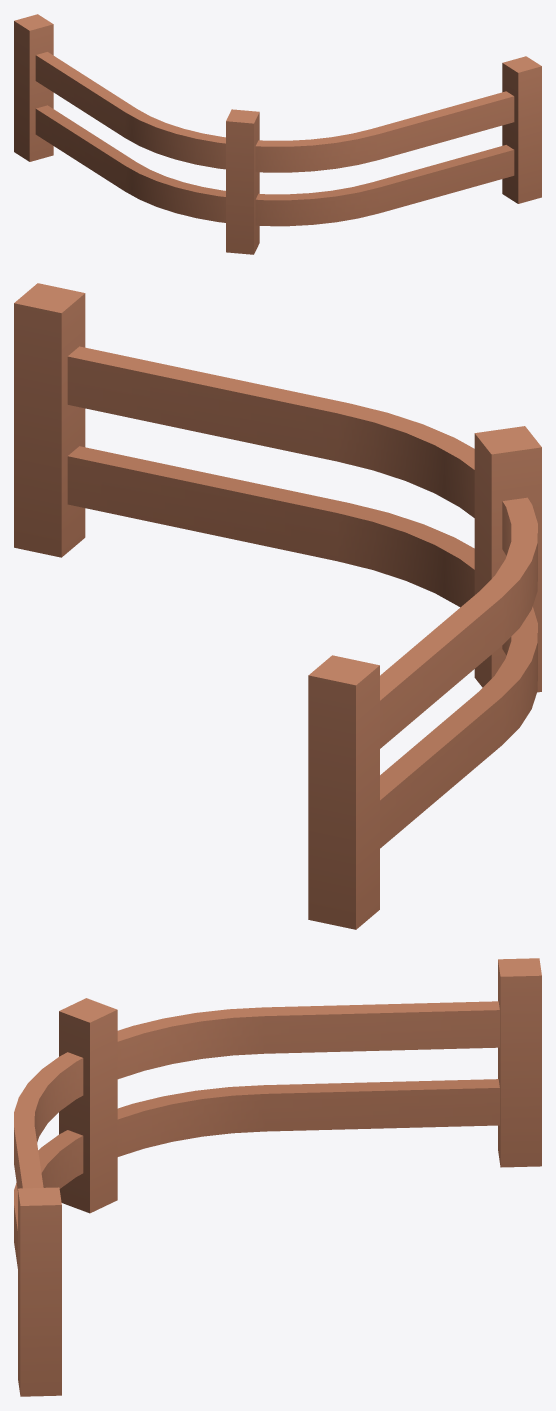
Rendered from fence-curved.001_lev4.glb.
3 renders of one model, top to bottom at view 1: azimuth 30°, elevation 25°; view 2: azimuth 150°, elevation 25°; view 3: azimuth 270°, elevation 25°, orthographic. The views are drawn at different scales.
Visible parts, largest first — view 1: fence-curved.001_lev4; view 2: fence-curved.001_lev4; view 3: fence-curved.001_lev4.
Part boxes in pixels (x1=…): fence-curved.001_lev4: x1=14, y1=14, x2=541, y2=254; fence-curved.001_lev4: x1=14, y1=283, x2=541, y2=929; fence-curved.001_lev4: x1=14, y1=958, x2=541, y2=1396.
Size of the model in its own units: 18.71 by 6.71 by 16.85.
1 material, 1 textured.
